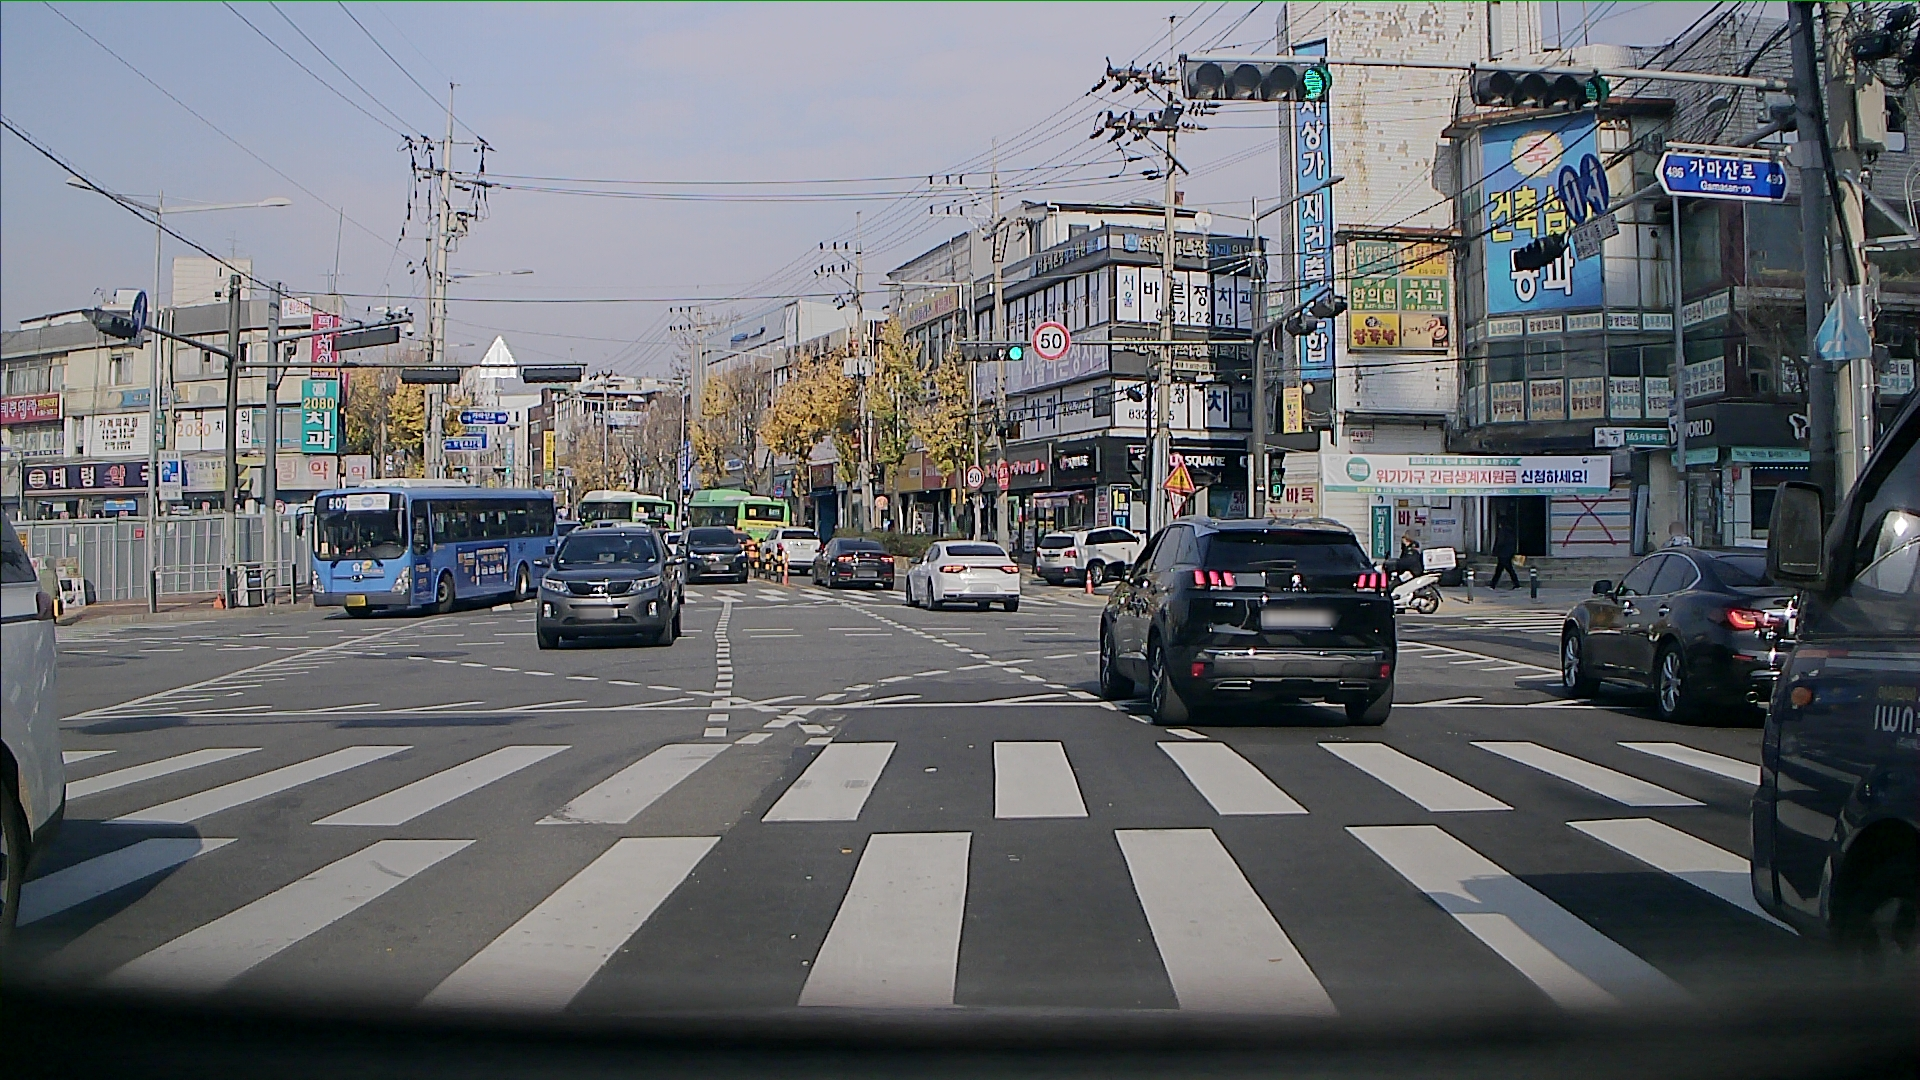trafficLight: (1183, 66, 1335, 102), (1474, 67, 1610, 103), (965, 340, 1025, 363)
trafficSignCircle: (1560, 152, 1607, 227), (1035, 324, 1068, 363)
trafficSignTri: (477, 336, 518, 377), (1164, 458, 1195, 492)
